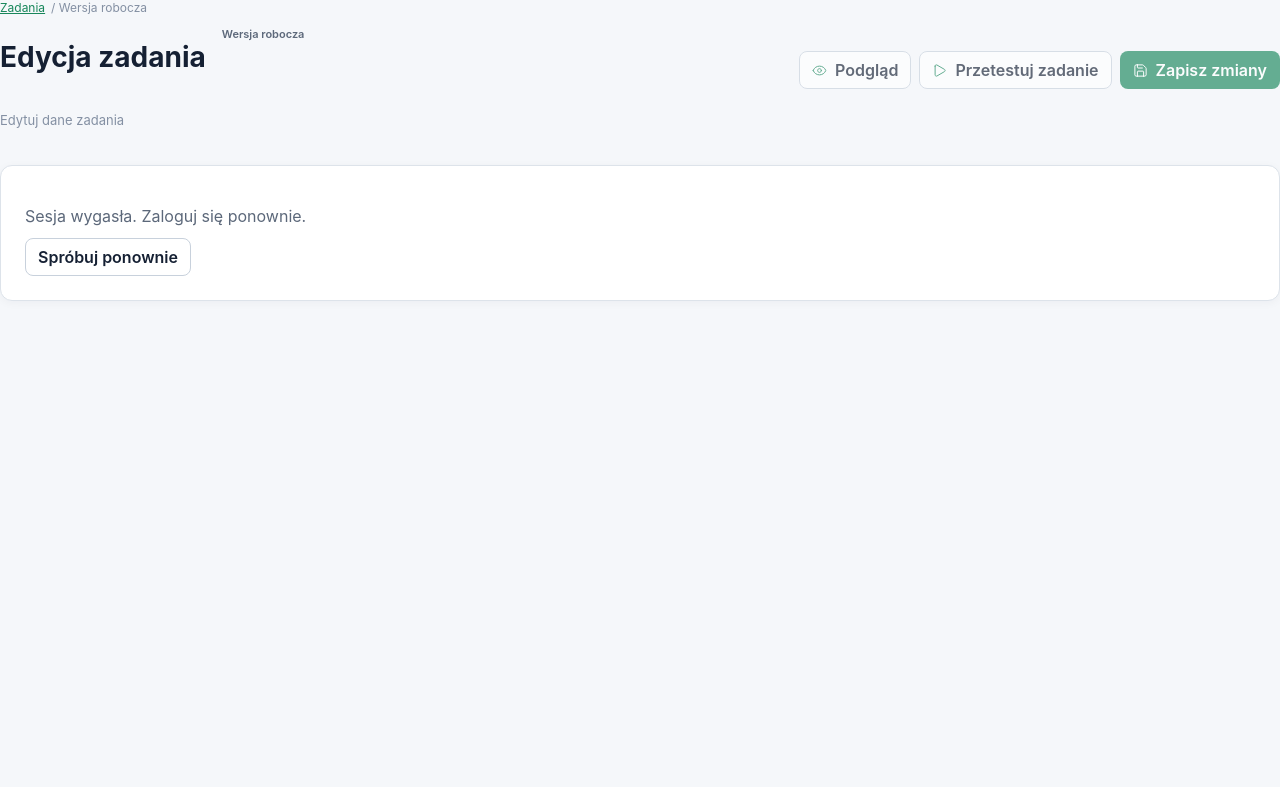
it: handles load failure 401 and retry
The image size is (1280, 787).
Expected: the message "Sesja wygasła. Zaloguj się ponownie. Spróbuj ponownie" is shown, [0,165,1279,301]
Expected: the field labelled "Tytuł" is not shown
Click the button "Spróbuj ponownie". click: (108, 257)
box: [25,238,191,276]
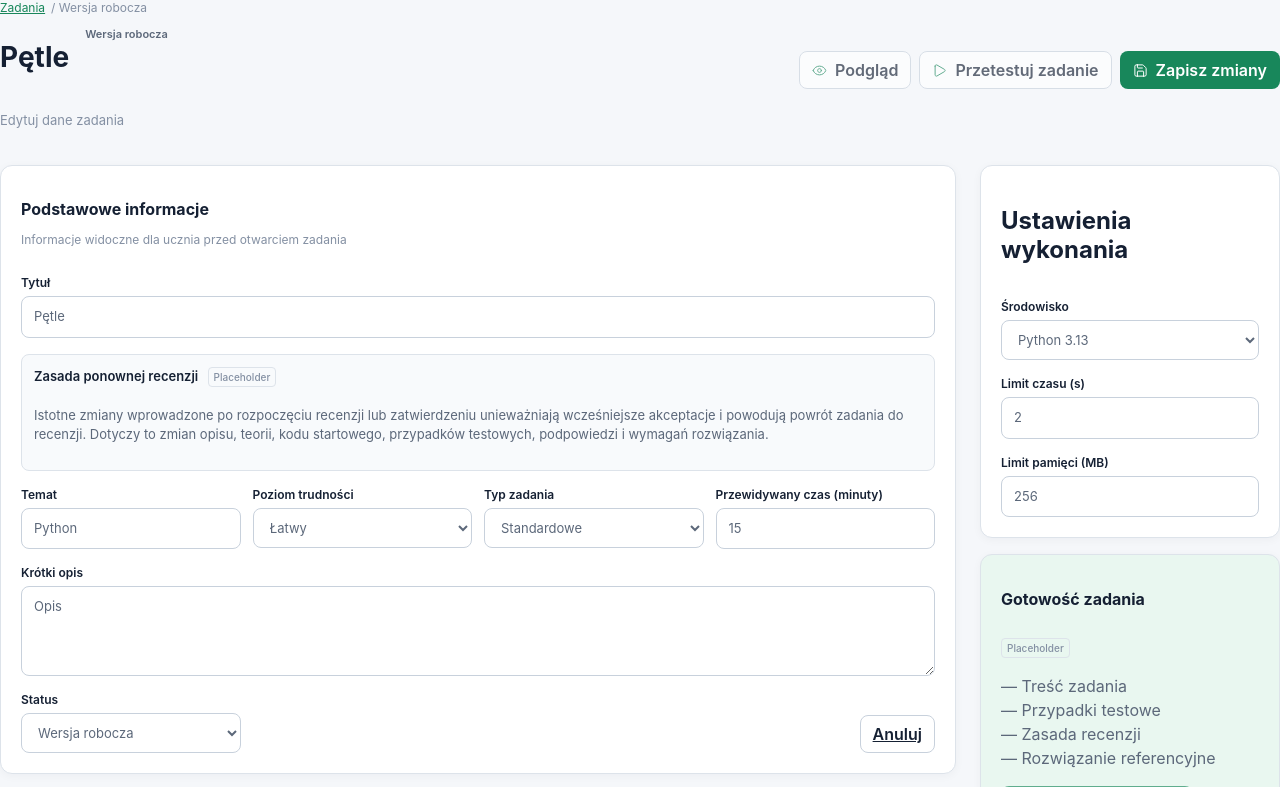
Now the field labelled "Tytuł" is shown, box [21,296,935,338]
